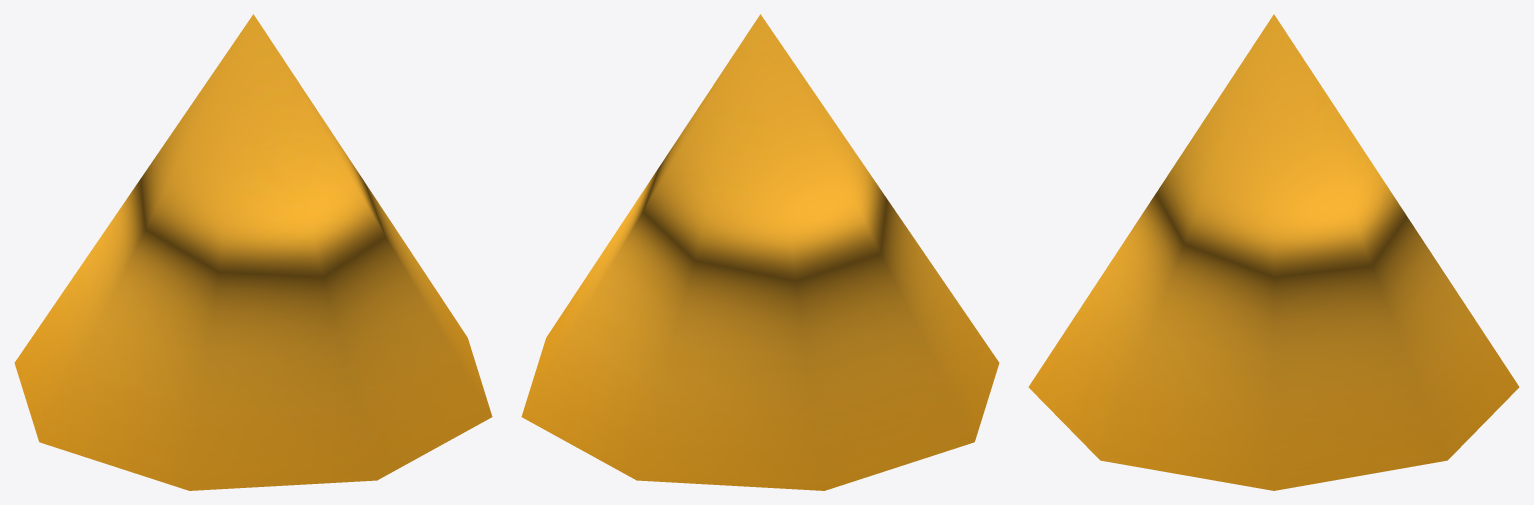
Rendered from football_train01_2.fbx.
3 renders of one model, left to right at view 1: azimuth 30°, elevation 25°; view 2: azimuth 150°, elevation 25°; view 3: azimuth 270°, elevation 25°, orthographic.
Parts seen in each view (by area): view 1: pCone1; view 2: pCone1; view 3: pCone1.
Part boxes in pixels (x1,y1,x2,y2): pCone1: [14, 14, 492, 490]; pCone1: [521, 14, 999, 490]; pCone1: [1028, 14, 1519, 490].
Size of the model in its own units: 0.3034 by 0.2544 by 0.3034.
